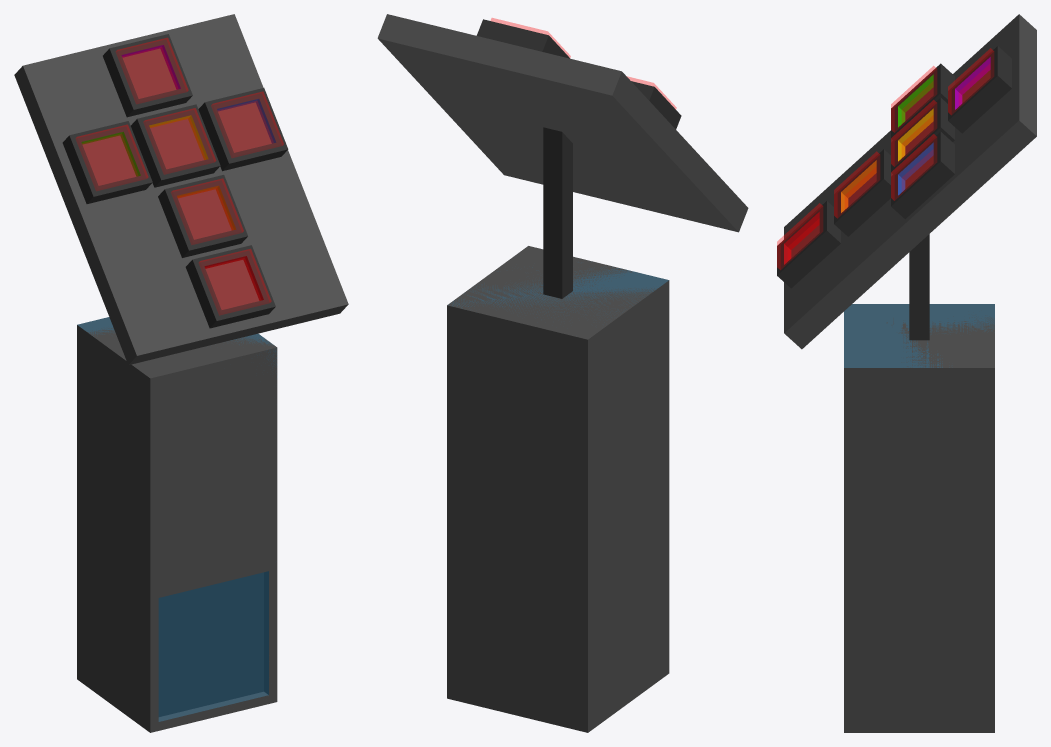
File: Teleport.fbx
3 renders of one model, left to right at view 1: azimuth 30°, elevation 25°; view 2: azimuth 150°, elevation 25°; view 3: azimuth 270°, elevation 25°, orthographic. The views are drawn at different scales.
Visible parts, largest first — view 1: Panel, Base, Solid2, BoxContainer, I2, I5, I1, I3, I4, I6; view 2: Base, Panel, Solid2; view 3: Base, Panel, Solid2, I1, I5, I2, I3, I4, I6.
Boxes of the visible parts, x1=… form: Panel: x1=14, y1=14, x2=348, y2=365; Base: x1=77, y1=317, x2=277, y2=732; Solid2: x1=78, y1=317, x2=268, y2=721; BoxContainer: x1=158, y1=572, x2=263, y2=716; I2: x1=171, y1=178, x2=243, y2=244; I5: x1=211, y1=91, x2=283, y2=157; I1: x1=199, y1=249, x2=271, y2=314; I3: x1=143, y1=108, x2=215, y2=174; I4: x1=76, y1=124, x2=148, y2=190; I6: x1=116, y1=38, x2=188, y2=103; Base: x1=447, y1=127, x2=669, y2=732; Panel: x1=377, y1=14, x2=748, y2=232; Solid2: x1=457, y1=270, x2=668, y2=305; Base: x1=844, y1=234, x2=994, y2=732; Panel: x1=777, y1=14, x2=1036, y2=349; Solid2: x1=844, y1=304, x2=994, y2=367; I1: x1=777, y1=203, x2=822, y2=269; I5: x1=891, y1=134, x2=936, y2=200; I2: x1=834, y1=151, x2=879, y2=218; I3: x1=891, y1=100, x2=936, y2=166; I4: x1=891, y1=66, x2=936, y2=132; I6: x1=948, y1=48, x2=993, y2=114.
Bounding box in the file's own units: 0.5 × 1.4 × 0.5162.
